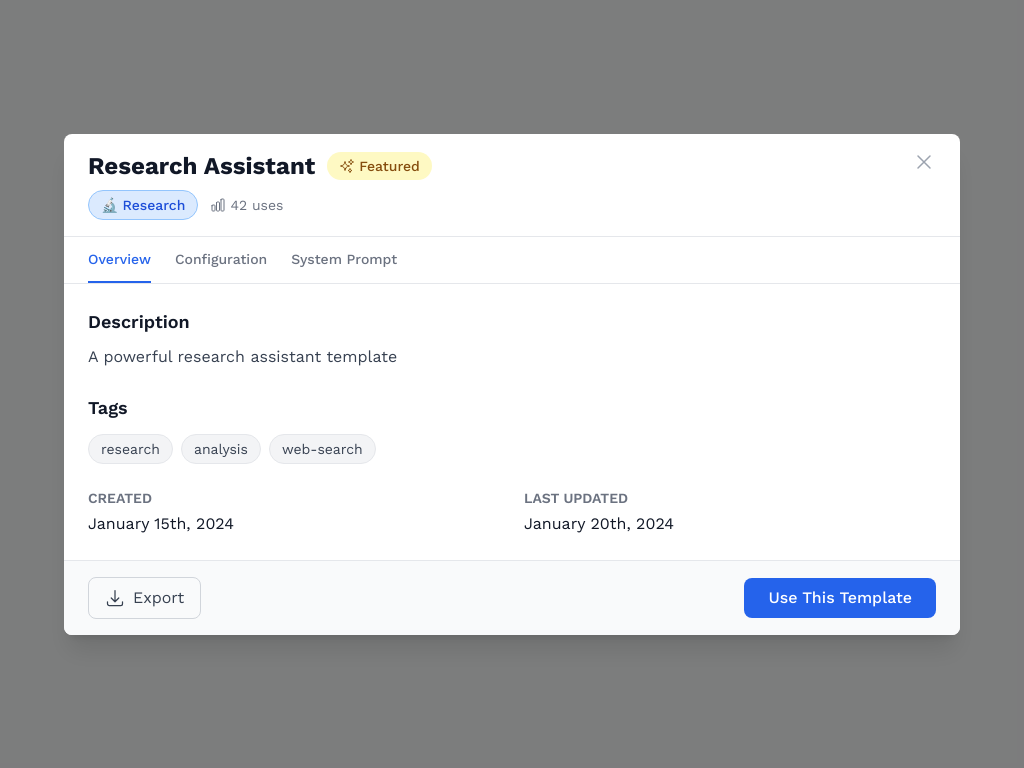
it: TemplateDetailModal › switches to system prompt tab when clicked
The width and height of the screenshot is (1024, 768).
What coordinates should you click on to do the following:
click the button "System Prompt"
I would click on:
 (344, 260)
Its box is [291,236,397,282].
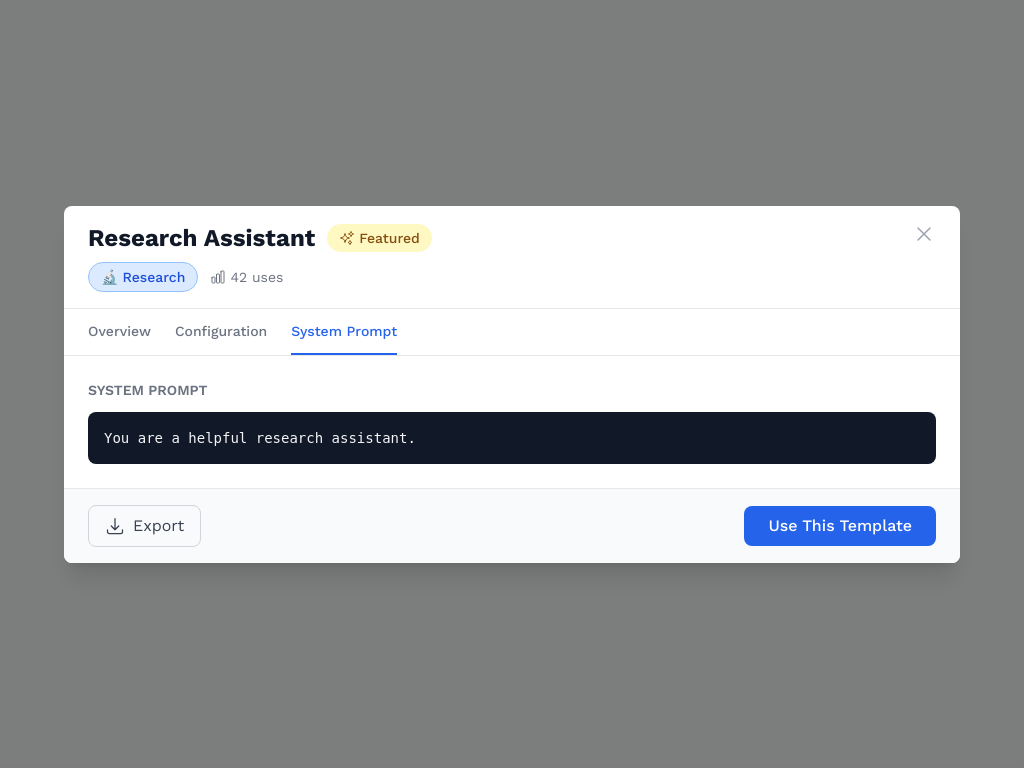
Now the text "You are a helpful research assistant." is shown, box [104,430,416,446]
